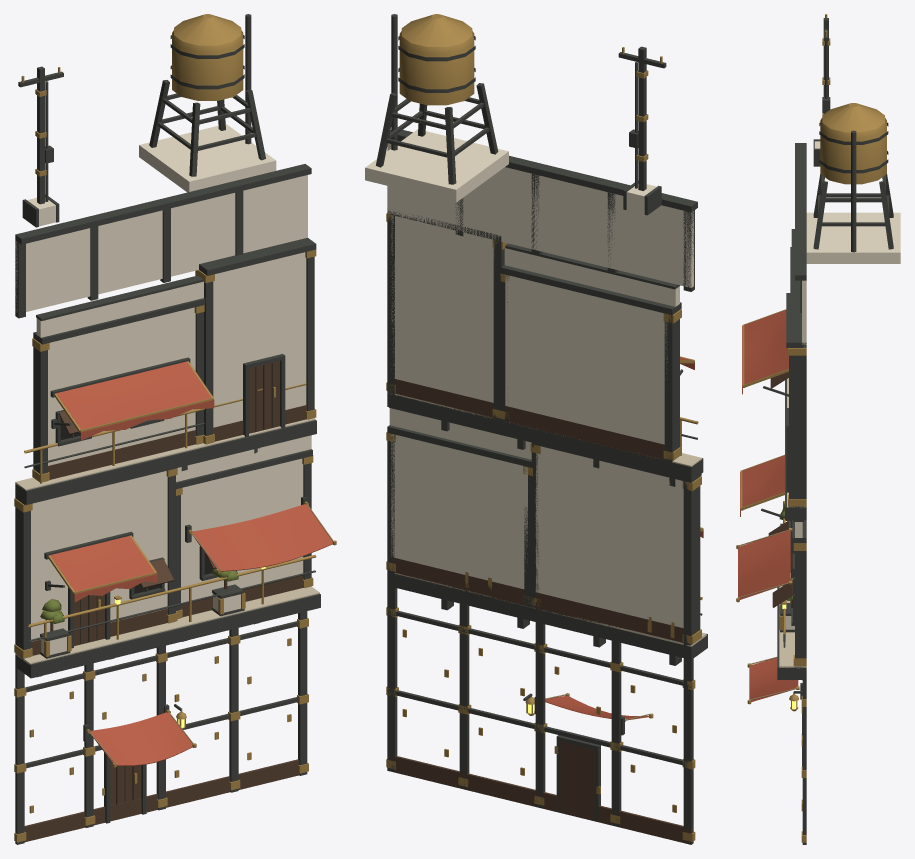
The model's file is terrace_a.glb.
The picture shows the model from 3 angles, left to right: view 1: azimuth 30°, elevation 25°; view 2: azimuth 150°, elevation 25°; view 3: azimuth 270°, elevation 25°; orthographic projection. The views are drawn at different scales.
Parts seen in each view (by area): view 1: terrace_a; view 2: terrace_a; view 3: terrace_a.
Boxes of the visible parts, x1=… form: terrace_a: x1=14, y1=14, x2=336, y2=844; terrace_a: x1=365, y1=14, x2=707, y2=844; terrace_a: x1=736, y1=14, x2=900, y2=844.
Size of the model in its own units: 8.06 by 20 by 4.2.
